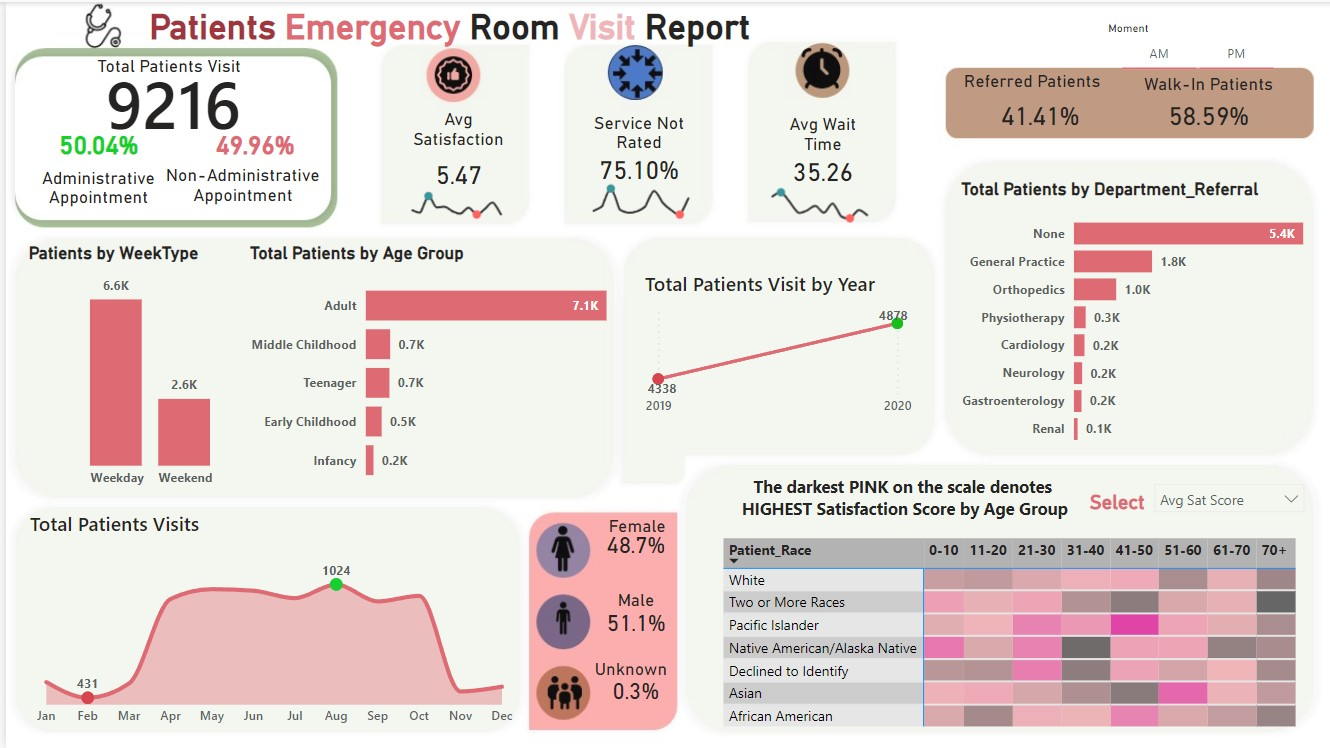

Layout of this report page (visuals, bound fields, positions):
{"tool":"powerbi","page":{"name":"Report","canvas":[1280,720],"ordinal":0},"visuals":[{"type":"card","fields":{"Values":["Measure Table.Total Patients"]},"box":[30.2,63.9,262.9,63.9],"z":0},{"type":"card","fields":{"Values":["Measure Table.% Administrative Scheduled"]},"box":[30,117.4,118.6,41.6],"z":1000},{"type":"card","fields":{"Values":["Measure Table.% Non-Administrative Scheduled"]},"box":[192.6,117.4,95.3,41.6],"z":2000},{"type":"card","title":"Avg Satisfaction","fields":{"Values":["Measure Table.Avg Sat Score"]},"box":[373.9,102.5,125.4,90.5],"z":3000},{"type":"card","title":"Service Not Rated","fields":{"Values":["Measure Table.% No Rating Patients"]},"box":[548.7,106.1,124.2,72.4],"z":4000},{"type":"card","title":"Avg Wait Time","fields":{"Values":["Measure Table.Avg Wait Time"]},"box":[732.1,107.3,112.2,73.6],"z":5000},{"type":"pivotTable","fields":{"Values":["Measure Table.Avg Sat Score"],"Rows":["Patients Dataset.Patient_Race"],"Columns":["Patients Dataset.Age Group"]},"box":[687,512.2,575.8,195.6],"z":6000},{"type":"slicer","fields":{"Values":["New_Parameter.New_Parameter"]},"box":[1097.7,454.7,165,46.5],"z":7000},{"type":"clusteredBarChart","fields":{"Category":["Patients Dataset.Age Group"],"Y":["Measure Table.Total Patients"]},"box":[230.4,231.6,377.5,246],"z":8000},{"type":"areaChart","title":"Total Patients Visits","fields":{"Category":["Date.Month"],"Y":["Measure Table.Total Patients","Measure Table.Values Max Min(Month)"]},"box":[18.3,491.4,481.6,216.4],"z":9000},{"type":"lineChart","title":"Total Patients Visit by Year","fields":{"Category":["Date.Year"],"Y":["Measure Table.Total Patients","Measure Table.Values MaxMin(Year)"]},"box":[611.5,259.3,267.7,148.3],"z":10000},{"type":"clusteredBarChart","fields":{"Category":["Patients Dataset.Department_Referral"],"Y":["Measure Table.Total Patients"]},"box":[916.6,170.1,363,268.9],"z":11000},{"type":"card","fields":{"Values":["Measure Table.% Referred Patients"]},"box":[945.5,90.5,104.9,38.6],"z":12000},{"type":"card","fields":{"Values":["Measure Table.% Un Referred Patients"]},"box":[1104.7,94.1,111,31.4],"z":13000},{"type":"card","fields":{"Values":["New_Parameter.Heat Map Caption"]},"box":[669.9,446.2,396.1,63.6],"z":14000},{"type":"textbox","box":[16.9,154.4,144.7,53.1],"z":15000},{"type":"textbox","box":[141.1,152,174.9,53.1],"z":16000},{"type":"textbox","box":[908.1,61.5,164,37.4],"z":17000},{"type":"textbox","box":[1085.4,63.9,149.5,35],"z":18000},{"type":"clusteredColumnChart","title":" Patients by WeekType","fields":{"Category":["Date.WeekType"],"Y":["Measure Table.Total Patients"]},"box":[16.9,231.6,247.2,246],"z":19000},{"type":"slicer","fields":{"Values":["Patients Dataset.Time_Moment"]},"box":[1050.1,7.3,196.8,62.3],"z":20000},{"type":"card","fields":{"Values":["Measure Table.% Female Visit"]},"box":[562,501.7,91.7,44.6],"z":21000},{"type":"card","fields":{"Values":["Measure Table.% Male Visit"]},"box":[562,576.5,91.7,45.8],"z":22000},{"type":"card","fields":{"Values":["Measure Table.% Unknown Gender Visit"]},"box":[562,642.8,91.7,44.6],"z":23000},{"type":"textbox","box":[74.8,47,165.2,28.9],"z":24000},{"type":"PBI_CV_25997FEB_F466_44FA_B562_AC4063283C4C","fields":{"axis":["Date.Month"],"measure":["Measure Table.Avg Sat Score"]},"box":[373.9,170.1,125.4,45.8],"z":25000},{"type":"PBI_CV_25997FEB_F466_44FA_B562_AC4063283C4C","fields":{"axis":["Date.Month"],"measure":["Measure Table.% No Rating Patients"]},"box":[548.7,162.8,131.5,53.1],"z":26000},{"type":"PBI_CV_25997FEB_F466_44FA_B562_AC4063283C4C","fields":{"axis":["Date.Month"],"measure":["Measure Table.Avg Wait Time"]},"box":[721.2,166.4,131.5,53.1],"z":27000},{"type":"textbox","box":[557.2,490.9,101.3,37.4],"z":27001},{"type":"textbox","box":[557.2,562,101.3,37.4],"z":27002},{"type":"textbox","box":[552.4,628.3,101.3,37.4],"z":27003},{"type":"textbox","box":[102.5,0,642.8,54.3],"z":27004},{"type":"textbox","box":[557.2,490.9,103.7,28.9],"z":27005},{"type":"textbox","box":[1020.3,466.7,103.7,35],"z":27006}]}

Visuals, with their boxes in screenshot pixels (x1, y1, x2, y2), scaled from the page's 1280x720 canvas onto the 1330x748 screenshot:
card - Measure Table.Total Patients: rect(31, 66, 305, 133)
card - Measure Table.% Administrative Scheduled: rect(31, 122, 154, 165)
card - Measure Table.% Non-Administrative Scheduled: rect(200, 122, 299, 165)
"Avg Satisfaction" card: rect(389, 106, 519, 201)
"Service Not Rated" card: rect(570, 110, 699, 185)
"Avg Wait Time" card: rect(761, 111, 877, 188)
pivotTable - Measure Table.Avg Sat Score x Patients Dataset.Patient_Race: rect(714, 532, 1312, 735)
slicer - New_Parameter.New_Parameter: rect(1141, 472, 1312, 521)
clusteredBarChart - Patients Dataset.Age Group x Measure Table.Total Patients: rect(239, 241, 632, 496)
"Total Patients Visits" areaChart: rect(19, 511, 519, 735)
"Total Patients Visit by Year" lineChart: rect(635, 269, 914, 423)
clusteredBarChart - Patients Dataset.Department_Referral x Measure Table.Total Patients: rect(952, 177, 1329, 456)
card - Measure Table.% Referred Patients: rect(982, 94, 1091, 134)
card - Measure Table.% Un Referred Patients: rect(1148, 98, 1263, 130)
card - New_Parameter.Heat Map Caption: rect(696, 464, 1108, 530)
textbox: rect(18, 160, 168, 216)
textbox: rect(147, 158, 328, 213)
textbox: rect(944, 64, 1114, 103)
textbox: rect(1128, 66, 1283, 103)
" Patients by WeekType" clusteredColumnChart: rect(18, 241, 274, 496)
slicer - Patients Dataset.Time_Moment: rect(1091, 8, 1296, 72)
card - Measure Table.% Female Visit: rect(584, 521, 679, 568)
card - Measure Table.% Male Visit: rect(584, 599, 679, 647)
card - Measure Table.% Unknown Gender Visit: rect(584, 668, 679, 714)
textbox: rect(78, 49, 249, 79)
PBI_CV_25997FEB_F466_44FA_B562_AC4063283C4C - Date.Month x Measure Table.Avg Sat Score: rect(389, 177, 519, 224)
PBI_CV_25997FEB_F466_44FA_B562_AC4063283C4C - Date.Month x Measure Table.% No Rating Patients: rect(570, 169, 707, 224)
PBI_CV_25997FEB_F466_44FA_B562_AC4063283C4C - Date.Month x Measure Table.Avg Wait Time: rect(749, 173, 886, 228)
textbox: rect(579, 510, 684, 549)
textbox: rect(579, 584, 684, 623)
textbox: rect(574, 653, 679, 692)
textbox: rect(107, 0, 774, 56)
textbox: rect(579, 510, 687, 540)
textbox: rect(1060, 485, 1168, 521)
